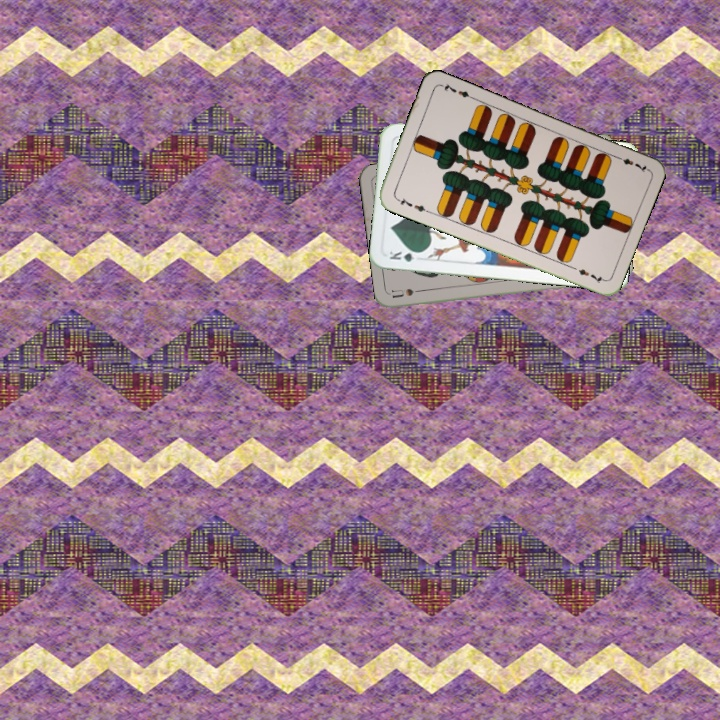E7: (611, 152, 650, 175), (392, 193, 431, 215)
GK: (385, 246, 425, 265)
SU: (389, 284, 429, 301)
